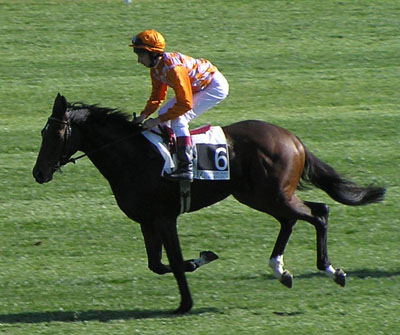person: (130, 31, 229, 183)
